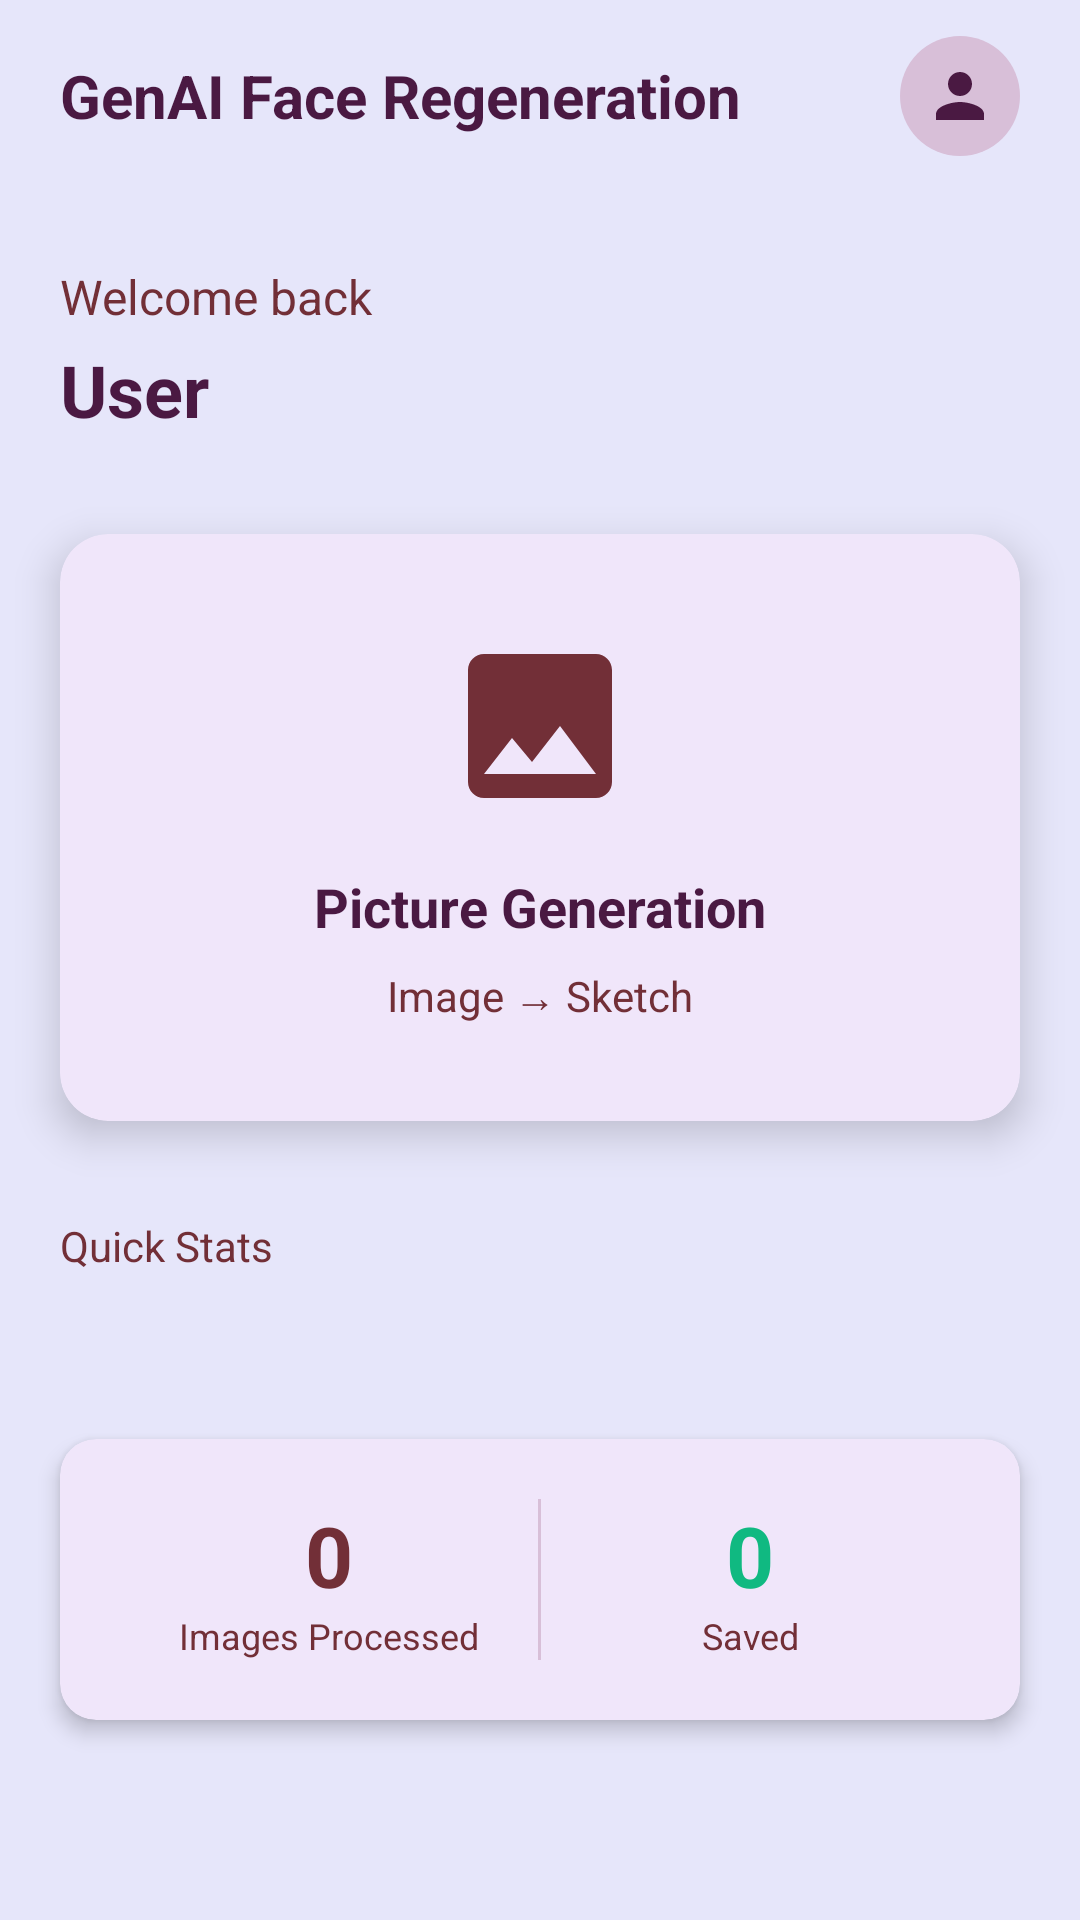

Where icons sit on this 1080 × 1920 app screen, as [left=x1, top=y1, right=x2, bottom=y2]:
Profile: [left=900, top=36, right=1020, bottom=156]
